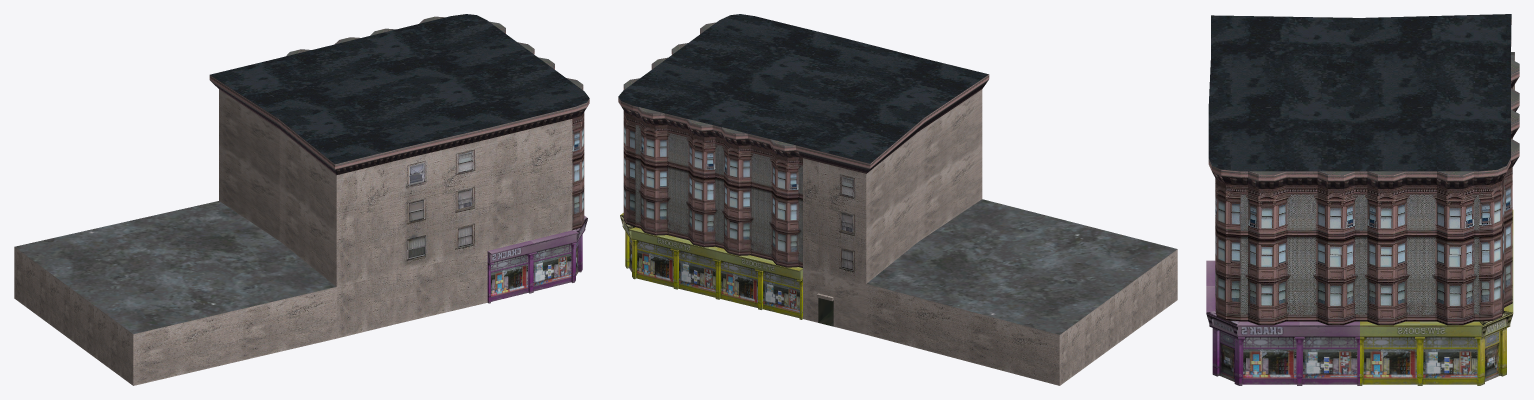
The model's file is haightshop_sfs.obj.
3 views of the same model, side by side, from view 1: azimuth 30°, elevation 25°; view 2: azimuth 150°, elevation 25°; view 3: azimuth 270°, elevation 25° (orthographic). The views are drawn at different scales.
Visible parts, largest first — view 1: haightshop_SFS; view 2: haightshop_SFS; view 3: haightshop_SFS.
Part boxes in pixels (x1,y1,x2,y2): haightshop_SFS: (14, 14, 589, 385); haightshop_SFS: (618, 14, 1177, 385); haightshop_SFS: (1206, 14, 1519, 385).
Bounding box in the file's own units: 45.61 × 16.65 × 21.83.
9 materials, 9 textured.
